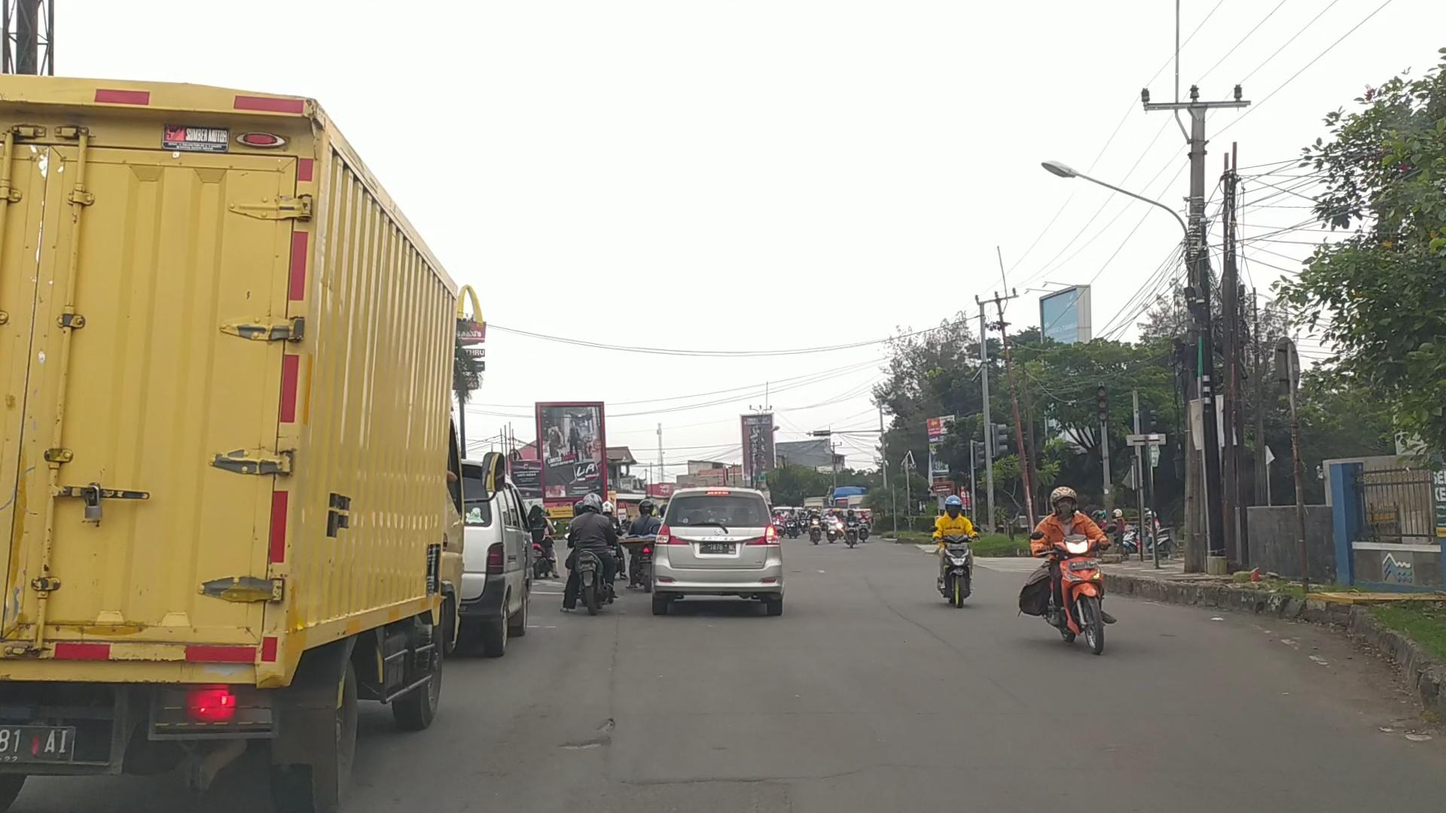pothole: (558, 739, 607, 750), (594, 714, 617, 733)
